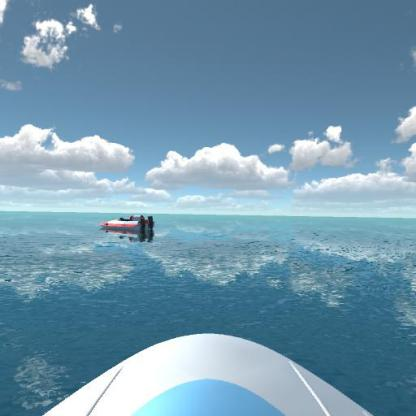usv3: (94, 209, 156, 240)
